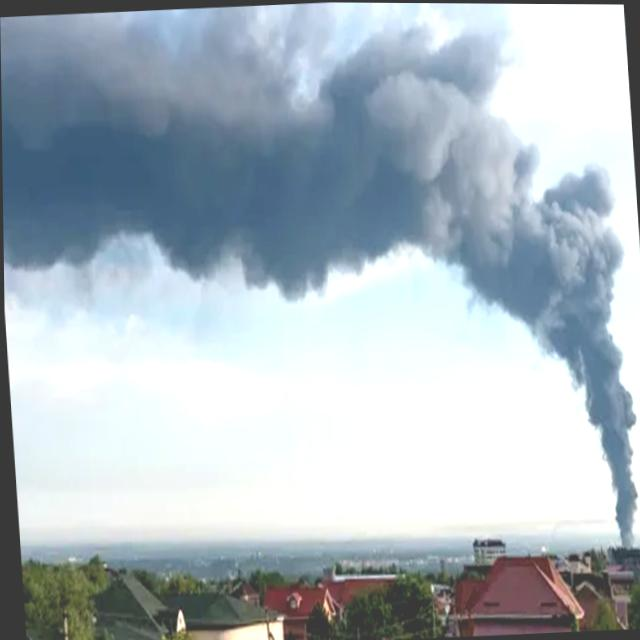Smoke: (0, 0, 640, 577)
